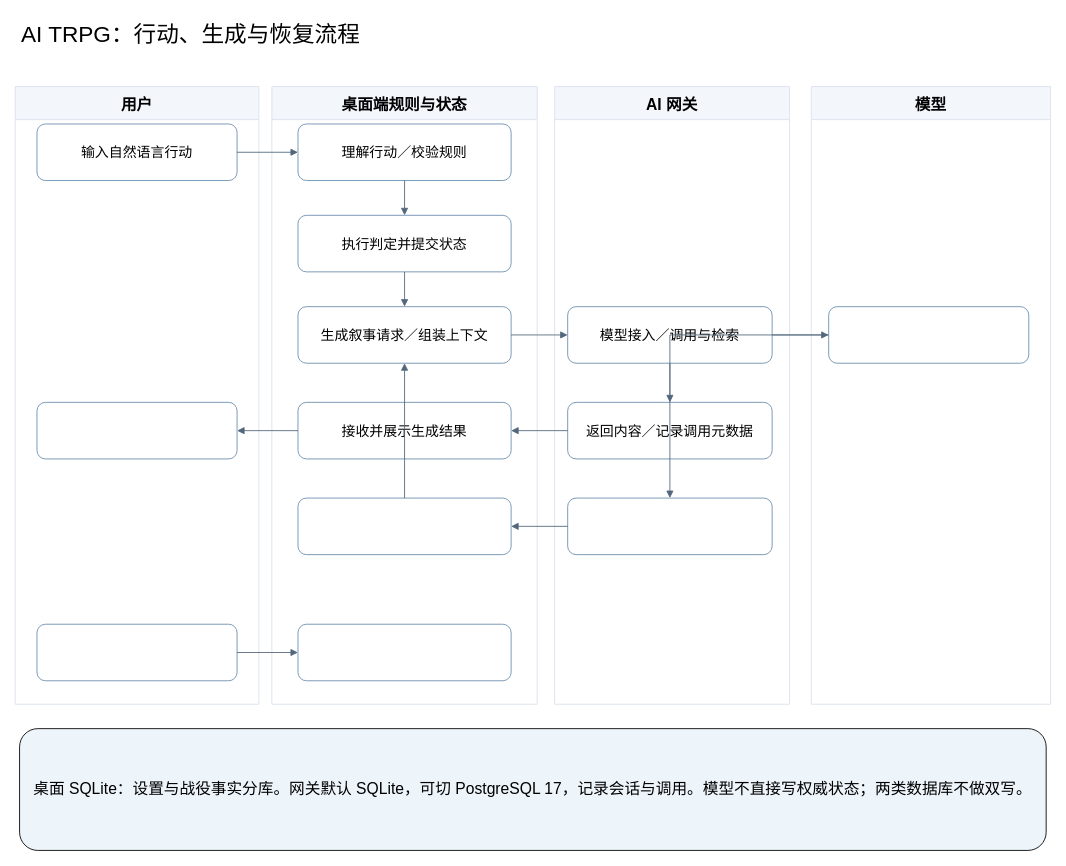
Some shapes in this 1066 by 866 pixel diagram are drawn without their labels. Each missing label, with the centre of its shape:
"创建恢复副本／保留原历史" goes at pixel 404 652.
"查看结果／继续行动" goes at pixel 136 430.
"沿用已提交结果重试" goes at pixel 404 526.
"生成叙事内容" goes at pixel 928 334.
"生成失败：返回错误" goes at pixel 669 526.
"选择历史检查点" goes at pixel 136 652.
